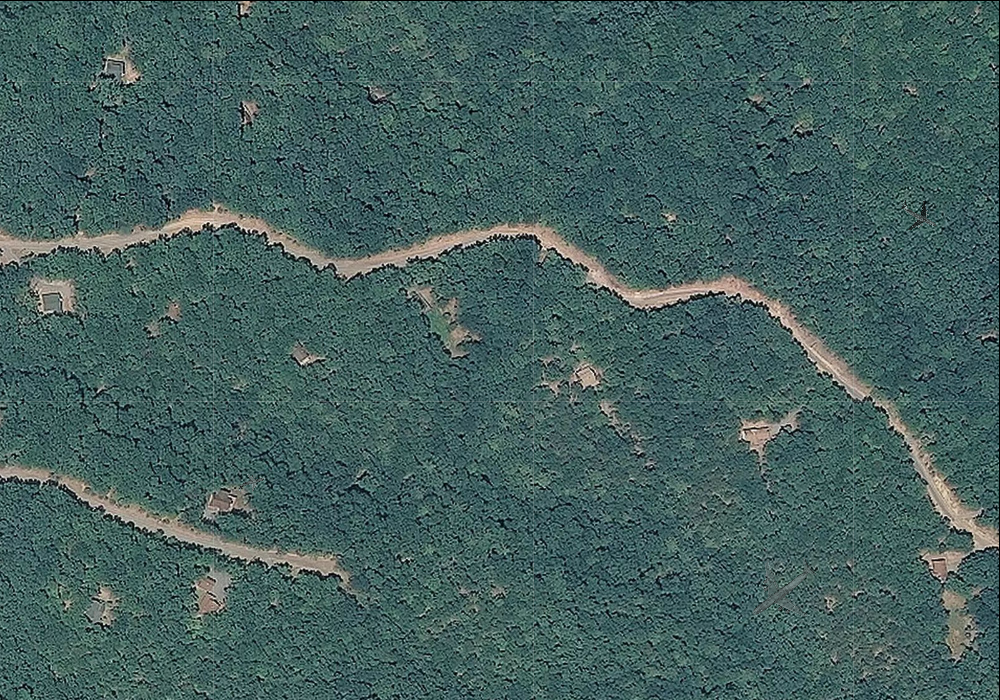plane: (729, 537, 835, 642), (892, 188, 946, 241), (234, 468, 267, 499)
